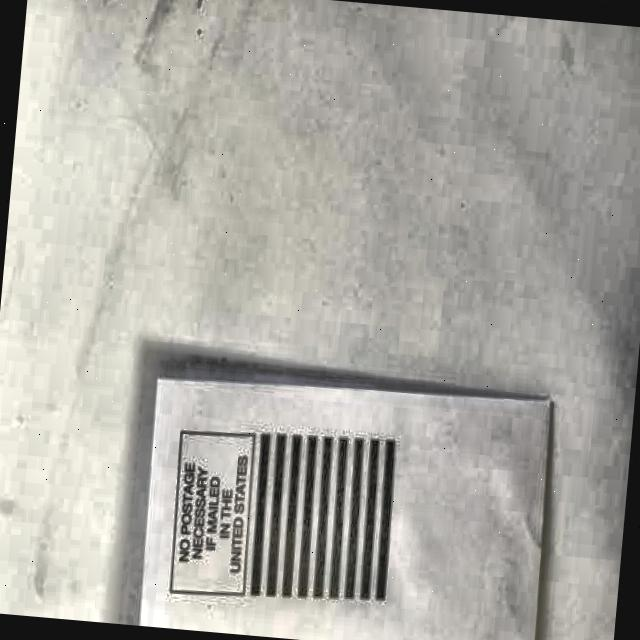paper: (134, 363, 568, 640)
